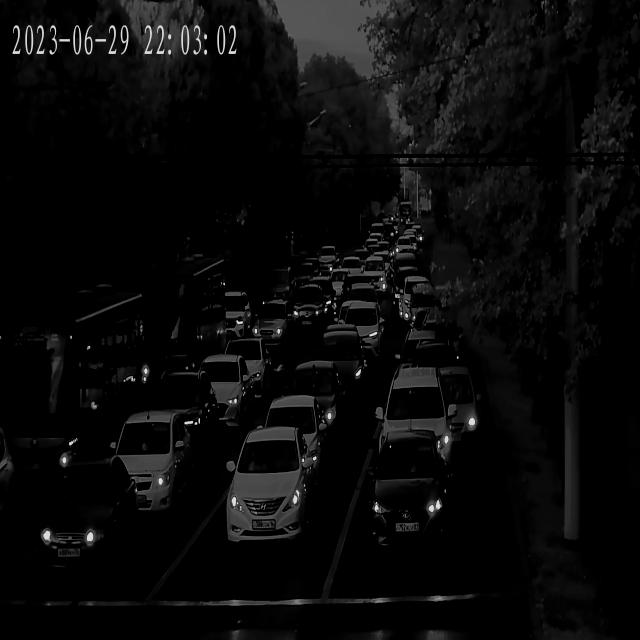Bus: (0, 291, 146, 497), (138, 254, 236, 373), (398, 202, 412, 225)
Car: (38, 464, 137, 579), (226, 428, 314, 551), (364, 435, 450, 558), (111, 409, 190, 518), (378, 360, 446, 476), (240, 412, 322, 502), (422, 364, 481, 468), (270, 370, 345, 450), (302, 327, 367, 406), (246, 402, 326, 464), (190, 356, 251, 430), (324, 306, 383, 370), (220, 338, 276, 399), (276, 284, 331, 334), (250, 299, 301, 346), (404, 288, 457, 333), (405, 341, 459, 384), (396, 276, 442, 320), (386, 264, 429, 304), (218, 289, 253, 336), (347, 285, 379, 333), (363, 259, 389, 295), (340, 256, 362, 290), (330, 269, 351, 302), (372, 252, 391, 282), (314, 244, 338, 267), (353, 248, 371, 276), (397, 236, 416, 260), (379, 220, 395, 243), (371, 233, 386, 256), (371, 222, 385, 246), (366, 239, 381, 261), (411, 226, 423, 246)
